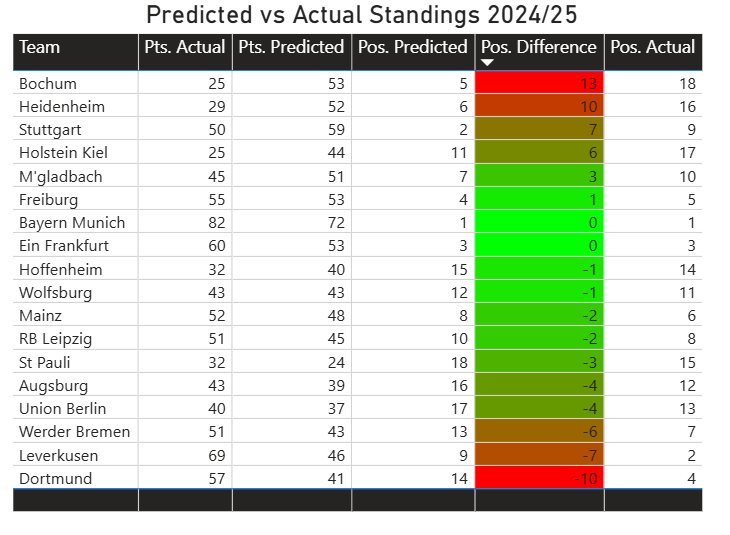

The dashboard page shown, as its layout file describes it:
{"tool":"powerbi","page":{"name":"Table","canvas":[1280,720],"ordinal":0},"visuals":[{"type":"tableEx","title":"Predicted vs Actual Standings 2024/25","fields":{"Values":["predicted_vs_actual.Team","predicted_vs_actual.Pts_Actual","predicted_vs_actual.Pts_Predicted","predicted_vs_actual.Position_Predicted","predicted_vs_actual.Position_Diff","predicted_vs_actual.Position_Actual"]},"box":[303.3,105,671.7,508.3],"z":0}]}

Visuals, with their boxes on the page's 1280x720 design canvas (x1, y1, x2, y2). These are canvas units, not pixel positions in the 730x535 screenshot, which may show the page scaled, cropped or inside an application window:
"Predicted vs Actual Standings 2024/25" tableEx: l=303, t=105, r=975, b=613
